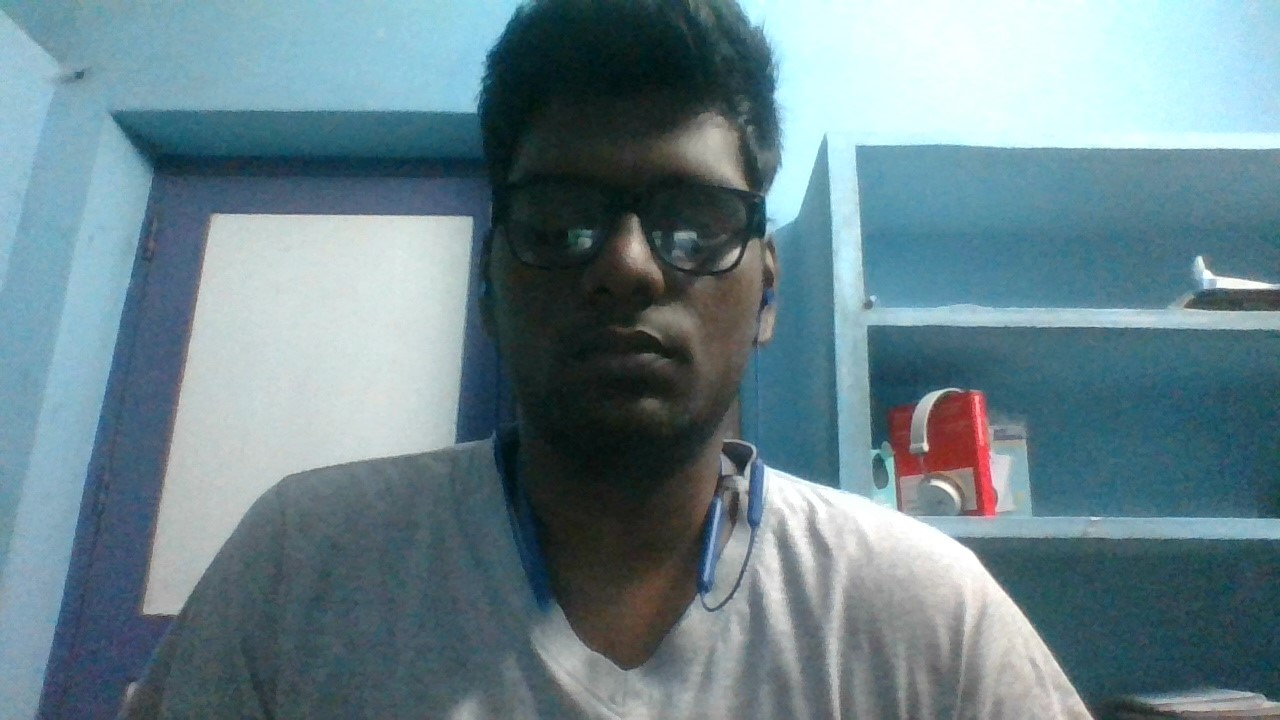person: (158, 2, 1043, 720)
